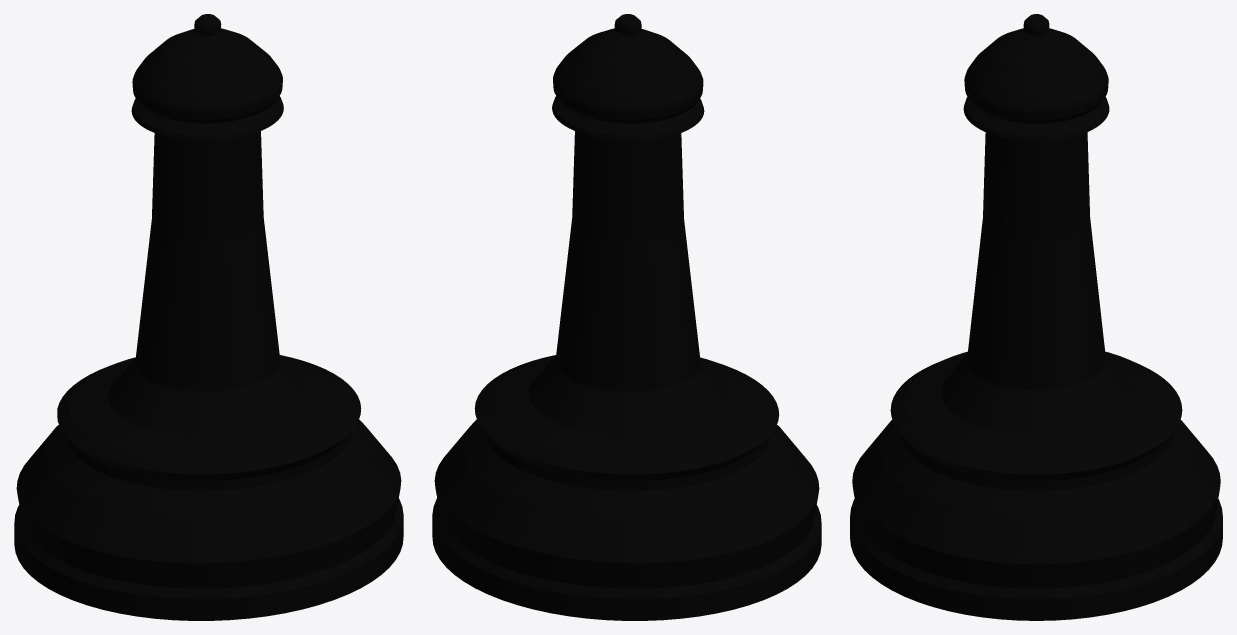
The model's file is PawnB.glb.
The picture shows the model from 3 angles, left to right: view 1: azimuth 30°, elevation 25°; view 2: azimuth 150°, elevation 25°; view 3: azimuth 270°, elevation 25°; orthographic projection.
Parts seen in each view (by area): view 1: RookA8; view 2: RookA8; view 3: RookA8.
Part boxes in pixels (bbox=[...]): RookA8: bbox=[14, 14, 403, 620]; RookA8: bbox=[432, 14, 821, 620]; RookA8: bbox=[850, 14, 1222, 620].
Bounding box in the file's own units: 0.7421 × 1.09 × 0.7074.
1 material, 1 textured.
